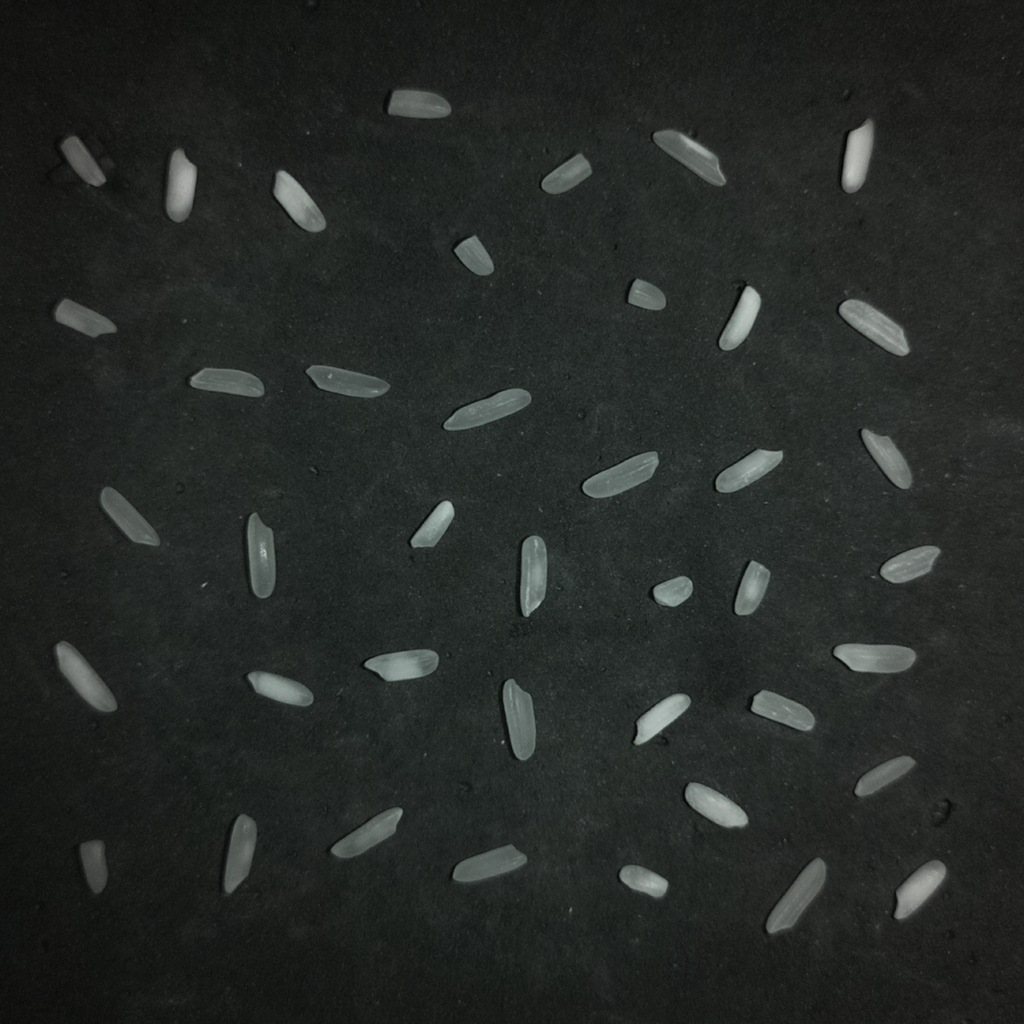broken: (751, 690, 814, 731), (53, 298, 115, 337), (60, 135, 105, 186), (880, 545, 940, 583), (541, 153, 591, 194), (734, 560, 770, 615), (387, 89, 451, 118), (78, 840, 108, 894), (453, 235, 493, 275), (652, 576, 692, 606), (627, 279, 665, 310)
chalky: (54, 641, 117, 712), (273, 170, 325, 232), (894, 860, 946, 919), (633, 693, 690, 744), (684, 783, 748, 827), (718, 286, 760, 350), (841, 119, 874, 193), (365, 649, 438, 681), (247, 671, 313, 706), (165, 148, 196, 222), (410, 500, 454, 547), (618, 865, 667, 898)
whole: (765, 858, 827, 935), (652, 129, 725, 185), (838, 299, 909, 355), (443, 388, 531, 430), (330, 807, 402, 858), (582, 451, 658, 498), (100, 487, 158, 545), (860, 428, 912, 488), (715, 449, 783, 492), (306, 365, 389, 398), (453, 845, 527, 882), (502, 679, 535, 760), (223, 814, 256, 893), (854, 755, 915, 796), (247, 513, 275, 598), (833, 644, 915, 673), (190, 368, 264, 397), (520, 535, 546, 616)
